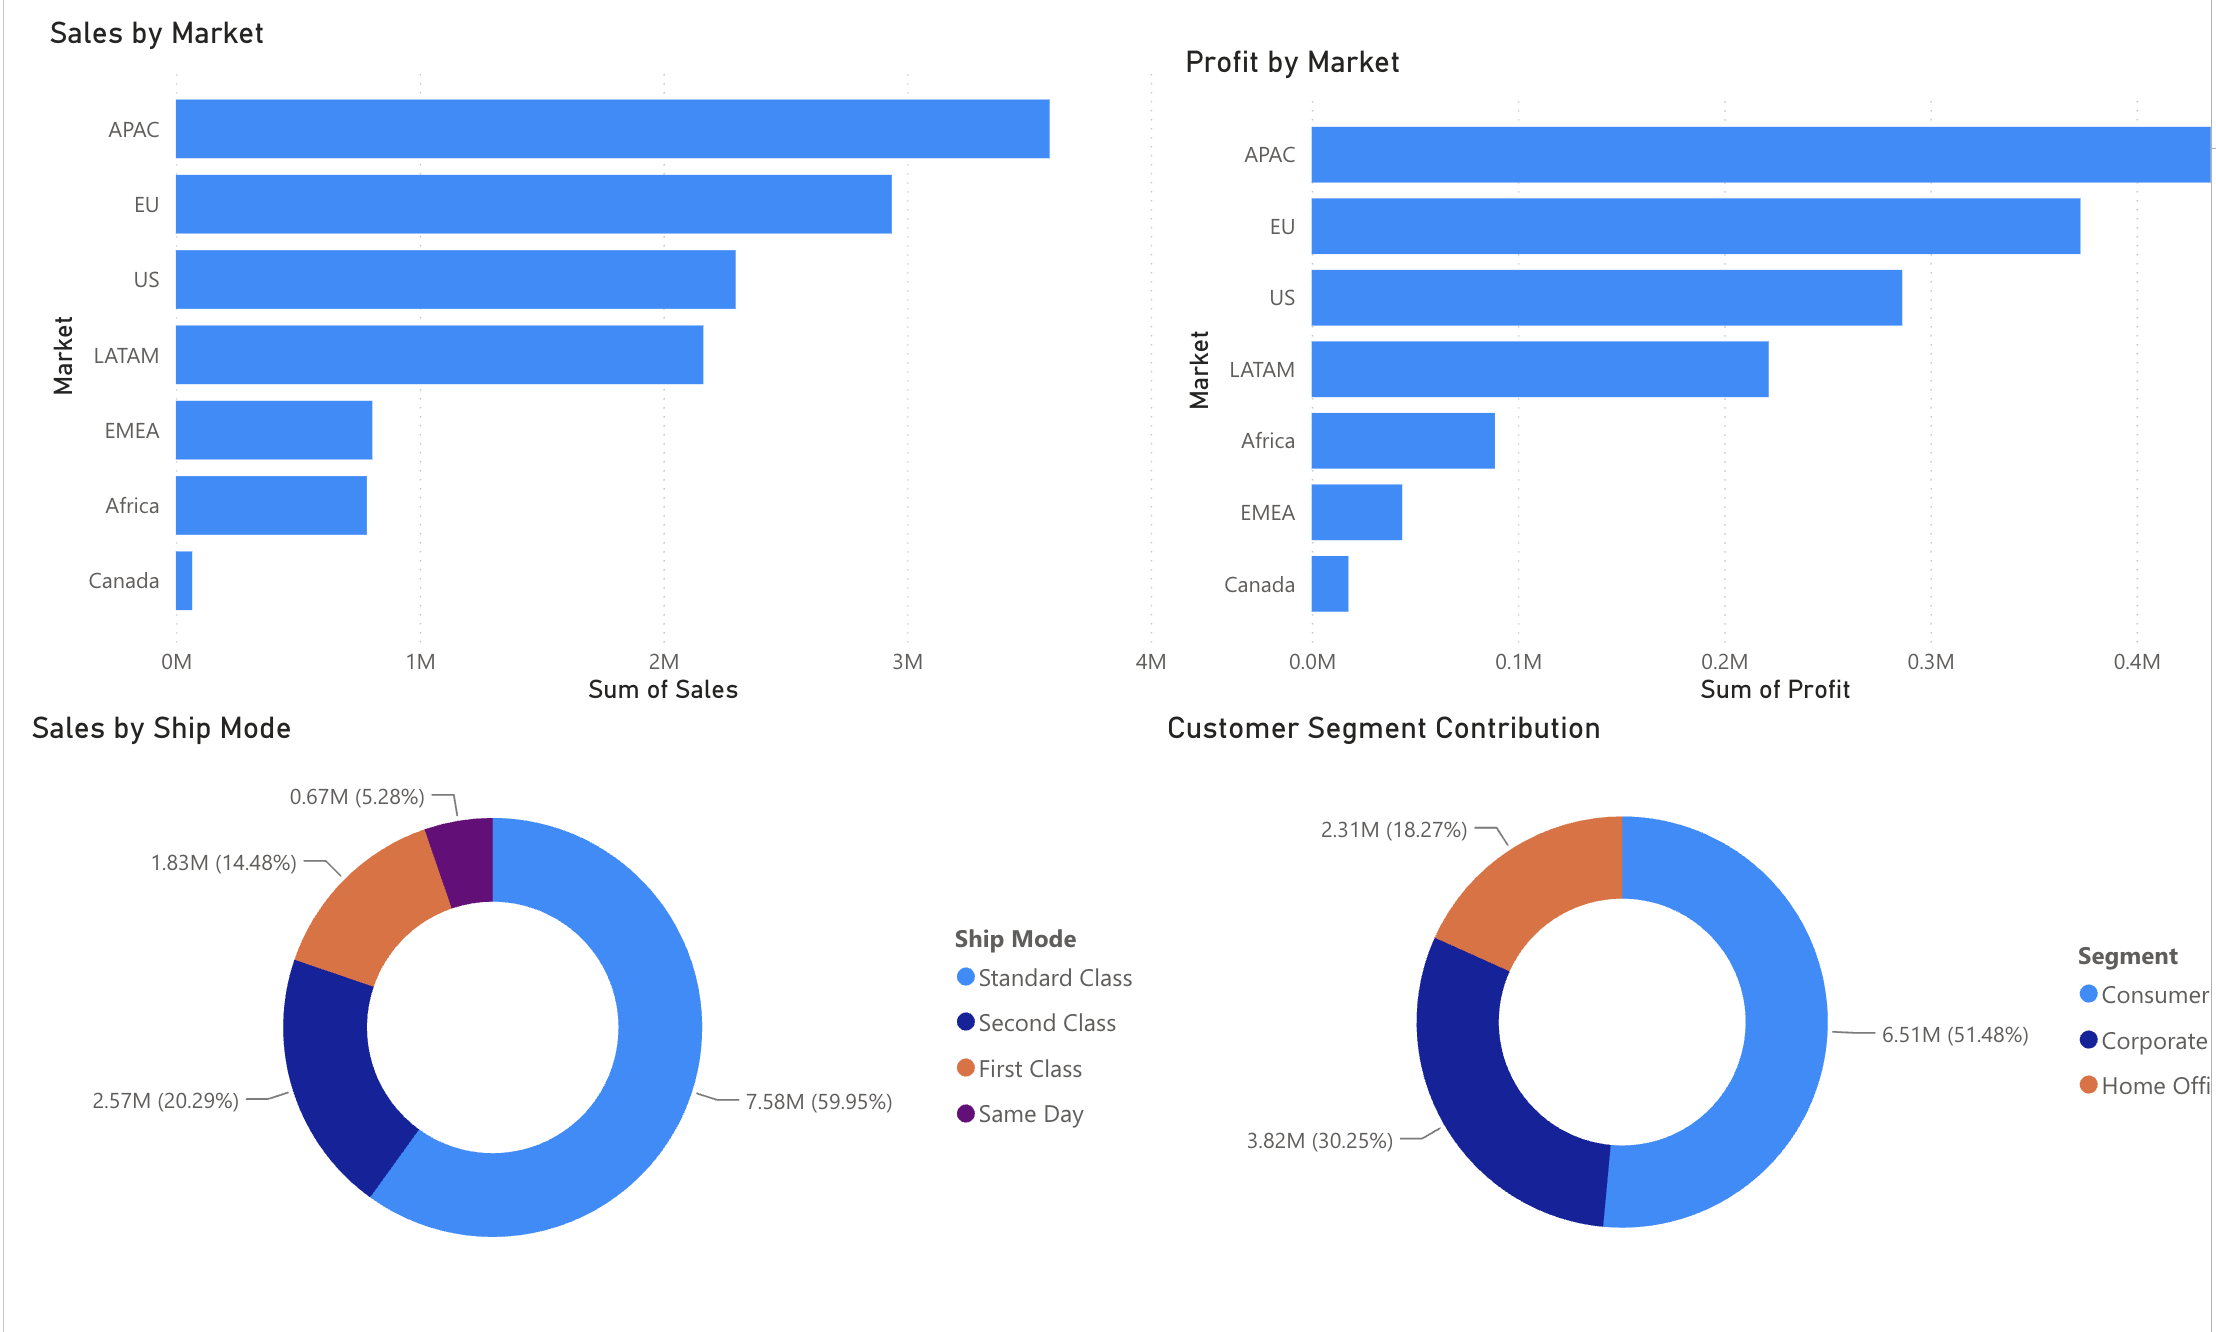

The page's visual inventory and layout, read from the dashboard file:
{"tool":"powerbi","page":{"name":"Customer & Market Analysis","canvas":[1280,720],"ordinal":2},"visuals":[{"type":"clusteredBarChart","title":"Sales by Market","fields":{"Category":["Orders.Market"],"Y":["Sum(Orders.Sales)"]},"box":[10,0,631.4,385.7],"z":0},{"type":"clusteredBarChart","title":"Profit by Market","fields":{"Category":["Orders.Market"],"Y":["Sum(Orders.Profit)"]},"box":[641.4,15.7,610,370],"z":1},{"type":"donutChart","title":"Sales by Ship Mode","fields":{"Y":["Sum(Orders.Sales)"],"Category":["Orders.Ship Mode"]},"box":[0,385.7,631.4,334.3],"z":2},{"type":"donutChart","title":"Customer Segment Contribution","fields":{"Category":["Orders.Segment"],"Y":["Sum(Orders.Sales)"]},"box":[631.4,385.7,612.9,328.6],"z":3}]}

Visuals, with their boxes on the page's 1280x720 design canvas (x1, y1, x2, y2). These are canvas units, not pixel positions in the 2216x1332 screenshot, which may show the page scaled, cropped or inside an application window:
"Sales by Market" clusteredBarChart: pyautogui.locateOnScreen(10, 0, 641, 386)
"Profit by Market" clusteredBarChart: pyautogui.locateOnScreen(641, 16, 1251, 386)
"Sales by Ship Mode" donutChart: pyautogui.locateOnScreen(0, 386, 631, 720)
"Customer Segment Contribution" donutChart: pyautogui.locateOnScreen(631, 386, 1244, 714)
